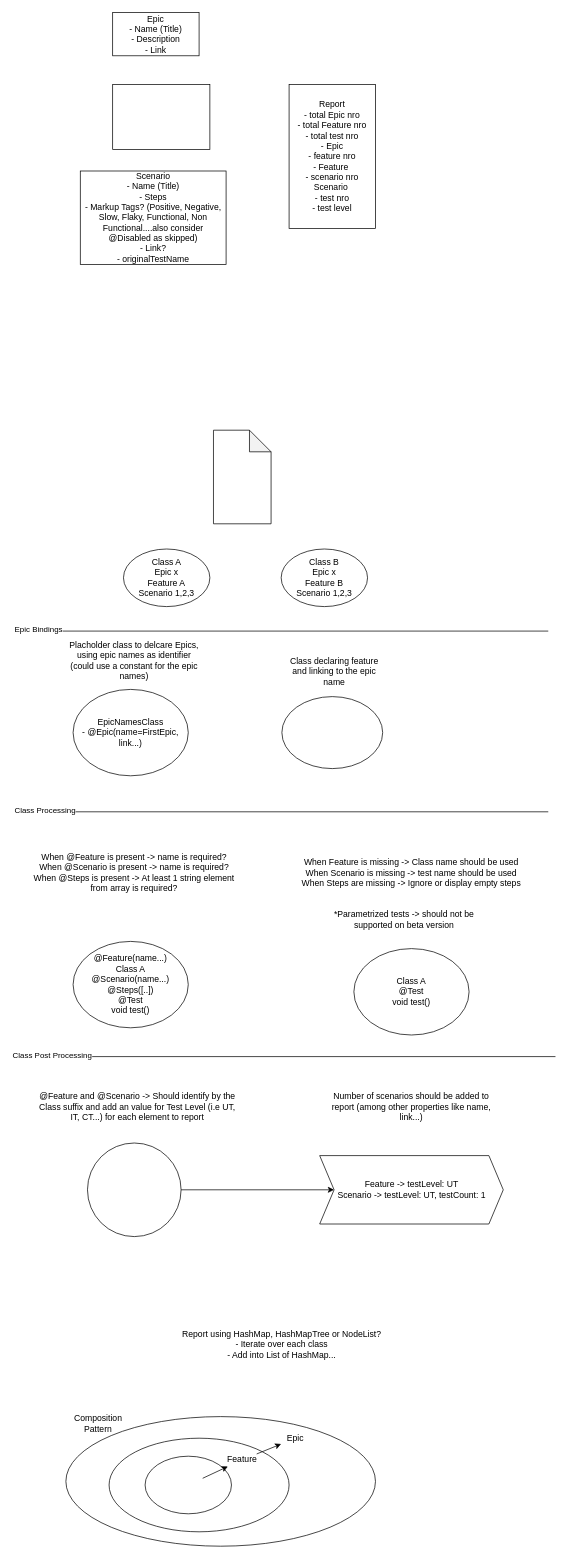
This 569x1559 diagram has some shape labels left out. Each missing label, with the box of its shape:
@Feature Class TestUT @Scenario(name...) @Steps([..]) @Test void test(): (87, 1142, 181, 1237)
@Feature(name, epic=FirstEpic Class X: (281, 696, 383, 769)
Epic X Feature A (Scenario...), Feature B (Scenario...): (213, 429, 271, 524)
Feature - Name (Title) - Description - Link - TestLevel - Classpath: (112, 84, 210, 149)
Scenario: (144, 1455, 231, 1514)
